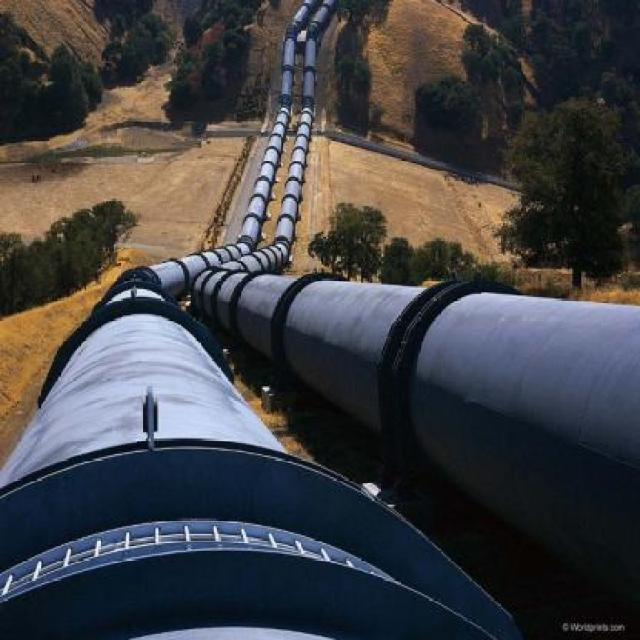gas: (7, 336, 439, 636), (469, 258, 636, 604), (332, 272, 465, 488), (245, 262, 327, 396), (66, 255, 183, 342), (271, 119, 312, 246), (196, 261, 250, 333), (238, 160, 274, 246), (166, 238, 246, 268), (214, 241, 294, 268), (273, 37, 298, 114), (261, 108, 290, 164), (297, 43, 317, 119), (282, 4, 309, 36), (305, 8, 330, 42)
